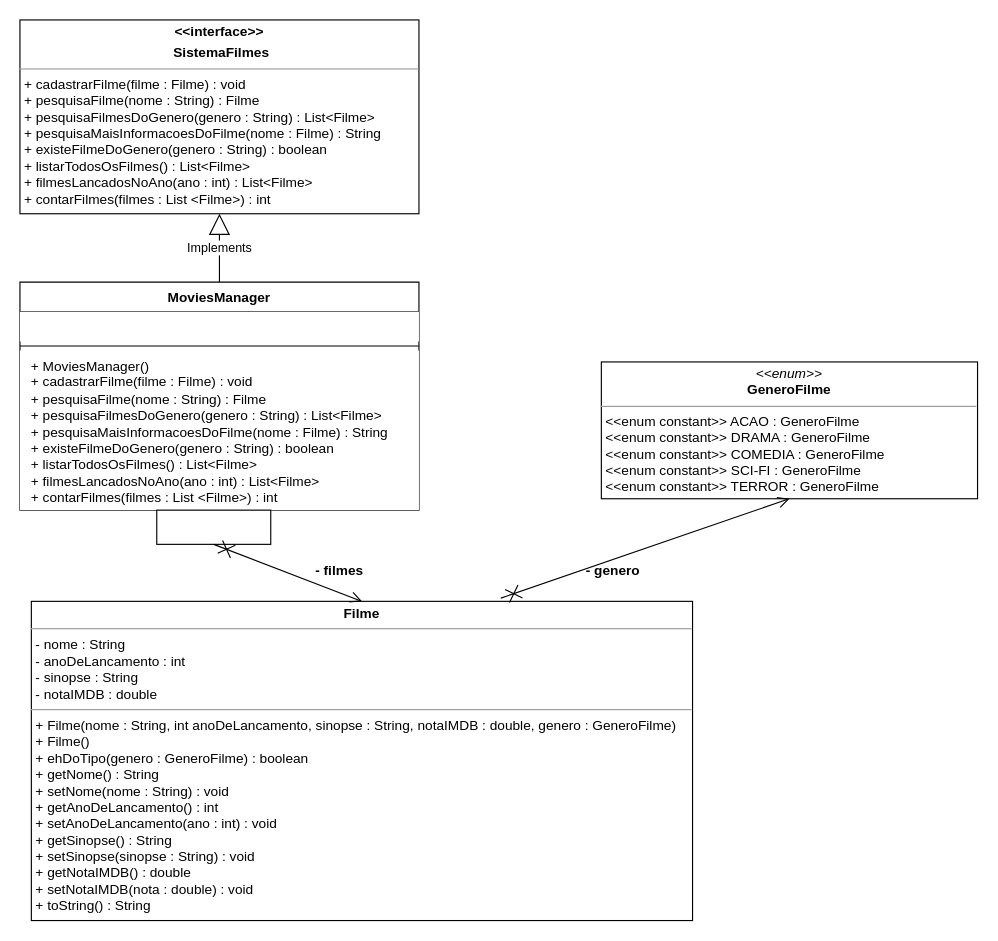
This 998x941 diagram has some shape labels left out. Here are the shapes that lost their labels. From the top down, the centre of each, then its label:
At [218,326]: "- filmes : Map<String, Filme>".
At [213,526]: "key : String".
